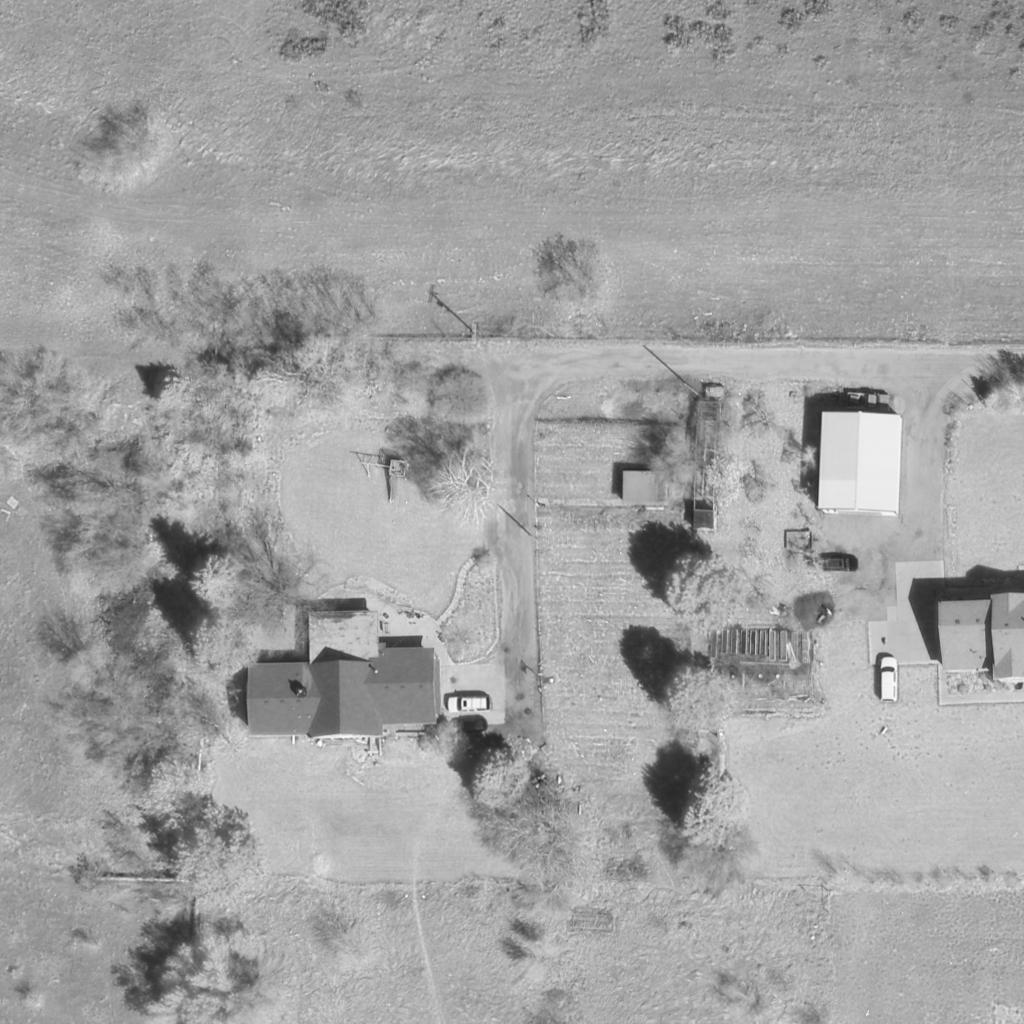vehicle: (841, 387, 895, 411), (880, 656, 900, 704), (446, 697, 490, 713), (820, 557, 856, 571)
